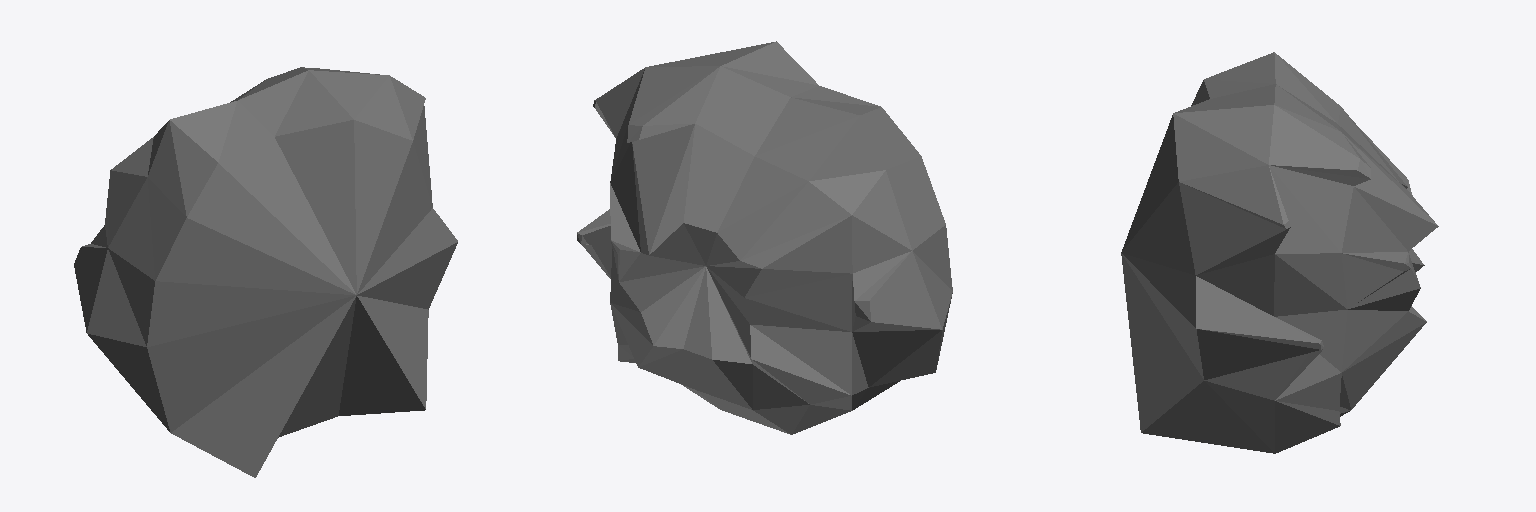
Rendered from ICE_spawn.obj.
3 renders of one model, left to right at view 1: azimuth 30°, elevation 25°; view 2: azimuth 150°, elevation 25°; view 3: azimuth 270°, elevation 25°, orthographic.
Parts seen in each view (by area): view 1: pCone2; view 2: pCone2; view 3: pCone2.
Part boxes in pixels (x1,y1,x2,y2): pCone2: (74,67,457,477); pCone2: (577,41,952,434); pCone2: (1121,52,1438,453).
Size of the model in its own units: 108 by 106 by 86.52.